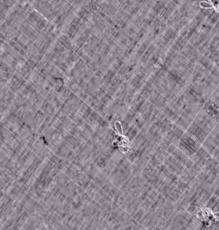snag: (106, 118, 140, 160), (195, 203, 217, 228)
